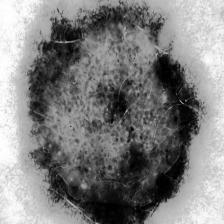Benign Marking or Mole: (20, 0, 208, 224)
